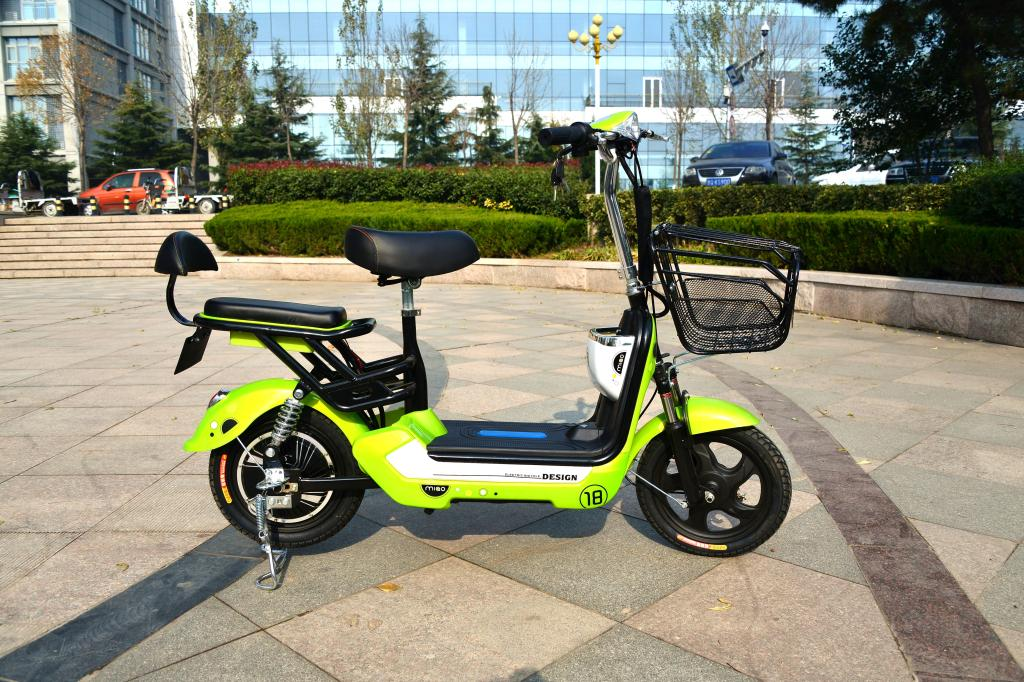电动车: (143, 105, 813, 595)
